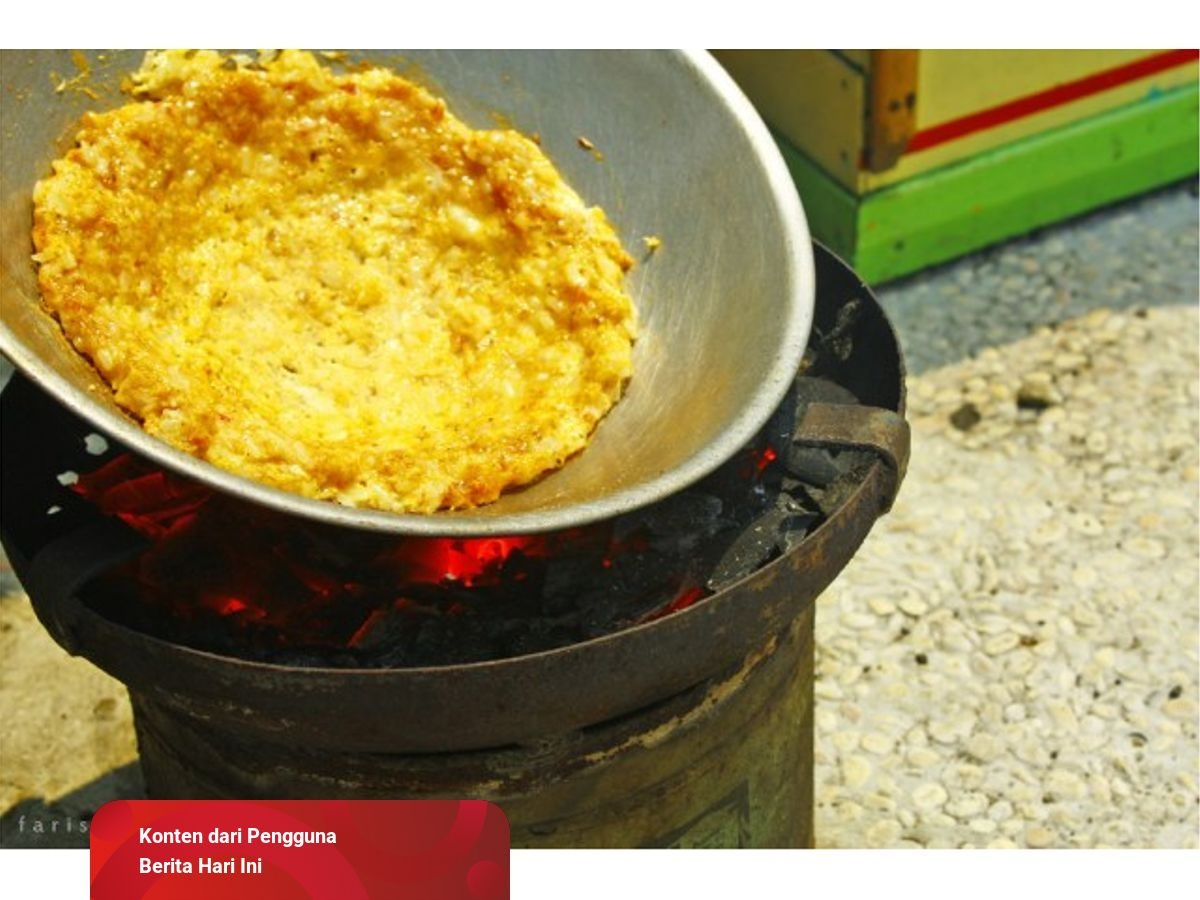kerak_telor: (29, 51, 645, 525)
